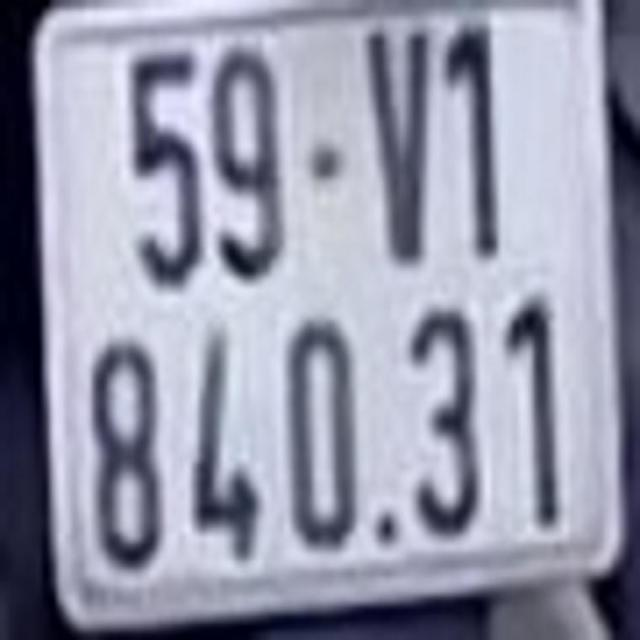0: (282, 314, 364, 553)
1: (498, 290, 580, 536), (441, 22, 514, 260)
3: (406, 302, 485, 542)
4: (180, 332, 270, 567)
5: (123, 47, 208, 286)
8: (82, 336, 170, 571)
9: (208, 48, 285, 281)
V: (365, 26, 442, 269)
